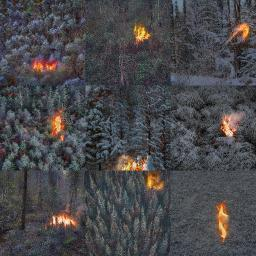Small fire: (215, 114, 236, 140), (47, 110, 67, 136), (50, 211, 79, 228), (26, 58, 54, 73), (232, 24, 245, 50), (135, 30, 148, 42)
